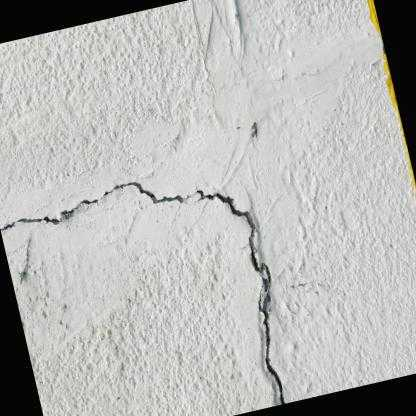crack: (0, 180, 286, 405)
